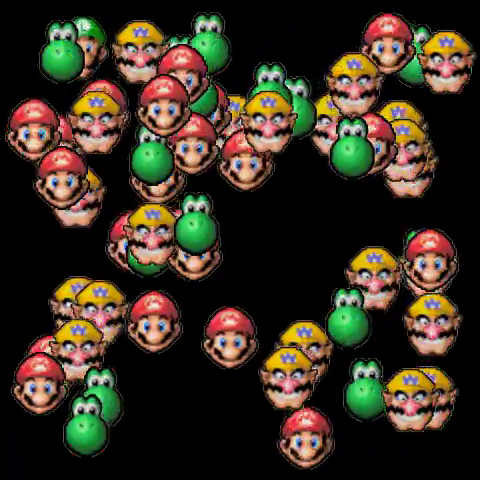luigi: (74, 16, 102, 80)
